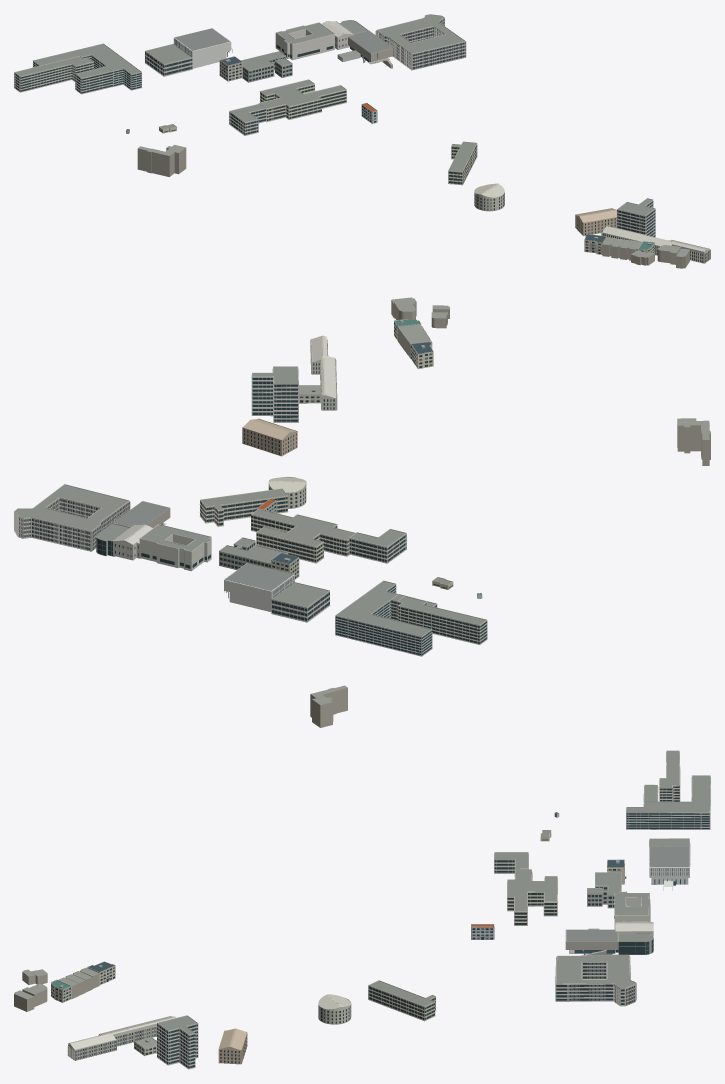
The model's file is zone_2_1-high.glb.
3 views of the same model, one above another, from view 1: azimuth 30°, elevation 25°; view 2: azimuth 150°, elevation 25°; view 3: azimuth 270°, elevation 25° (orthographic). The views are drawn at different scales.
Visible parts, largest first — view 1: web_building_1806438, web_building_135265606, web_building_188010216, web_building_2096073, web_building_135265380, web_building_134410449, web_building_136637847, web_building_138223978, web_building_174133709, web_building_134410444, web_building_135098352, web_building_1424900701 (+7 smaller); view 2: web_building_1806438, web_building_188010216, web_building_135265606, web_building_2096073, web_building_138223978, web_building_135265380, web_building_134410449, web_building_135311810, web_building_134410444, web_building_135156315, web_building_135265609, web_building_135098352 (+7 smaller); view 3: web_building_1806438, web_building_188010216, web_building_135265606, web_building_138223978, web_building_135098352, web_building_135311810, web_building_134410449, web_building_1424900701, web_building_136637847, web_building_2096073, web_building_174133709, web_building_135265380 (+4 smaller).
Boxes of the visible parts, left/top/right/bottom form: web_building_1806438: left=375, top=14, right=466, bottom=70; web_building_135265606: left=258, top=79, right=346, bottom=122; web_building_188010216: left=32, top=43, right=142, bottom=90; web_building_2096073: left=275, top=22, right=334, bottom=60; web_building_135265380: left=14, top=56, right=93, bottom=92; web_building_134410449: left=173, top=28, right=232, bottom=68; web_building_136637847: left=137, top=144, right=186, bottom=176; web_building_138223978: left=617, top=198, right=655, bottom=237; web_building_174133709: left=241, top=51, right=292, bottom=82; web_building_134410444: left=145, top=43, right=192, bottom=76; web_building_135098352: left=601, top=226, right=710, bottom=263; web_building_1424900701: left=348, top=30, right=393, bottom=68; web_building_1806438: left=14, top=484, right=130, bottom=551; web_building_188010216: left=335, top=580, right=432, bottom=656; web_building_135265606: left=250, top=509, right=355, bottom=563; web_building_2096073: left=139, top=524, right=211, bottom=571; web_building_138223978: left=251, top=366, right=298, bottom=422; web_building_135265380: left=397, top=596, right=487, bottom=644; web_building_134410449: left=224, top=563, right=294, bottom=612; web_building_135311810: left=199, top=488, right=288, bottom=526; web_building_134410444: left=271, top=582, right=330, bottom=622; web_building_135156315: left=242, top=418, right=297, bottom=456; web_building_135265609: left=349, top=529, right=407, bottom=563; web_building_135098352: left=310, top=335, right=337, bottom=410; web_building_1806438: left=555, top=954, right=636, bottom=1006; web_building_188010216: left=626, top=775, right=710, bottom=829; web_building_135265606: left=507, top=869, right=557, bottom=925; web_building_138223978: left=156, top=1015, right=198, bottom=1069; web_building_135098352: left=67, top=1016, right=176, bottom=1060; web_building_135311810: left=368, top=980, right=436, bottom=1021; web_building_134410449: left=649, top=847, right=689, bottom=890; web_building_1424900701: left=565, top=929, right=618, bottom=955; web_building_136637847: left=310, top=685, right=347, bottom=727; web_building_2096073: left=614, top=891, right=650, bottom=929; web_building_174133709: left=587, top=872, right=621, bottom=908; web_building_135265380: left=659, top=750, right=680, bottom=801.
Bounding box in the file's own units: 498 × 151 × 620.
